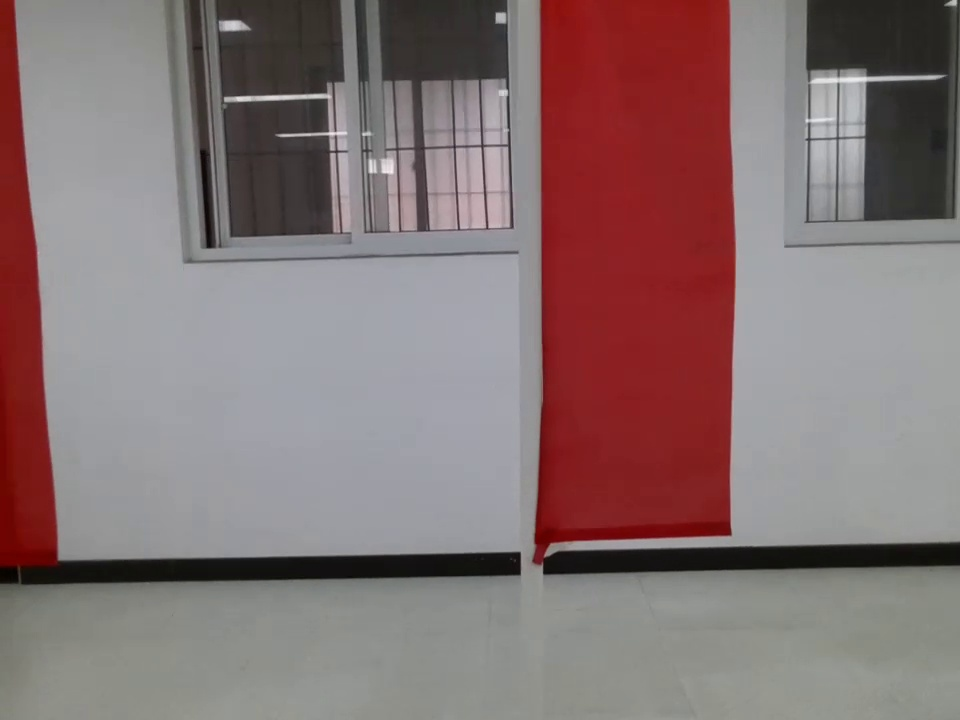qi: (502, 1, 740, 560), (1, 2, 68, 580)
